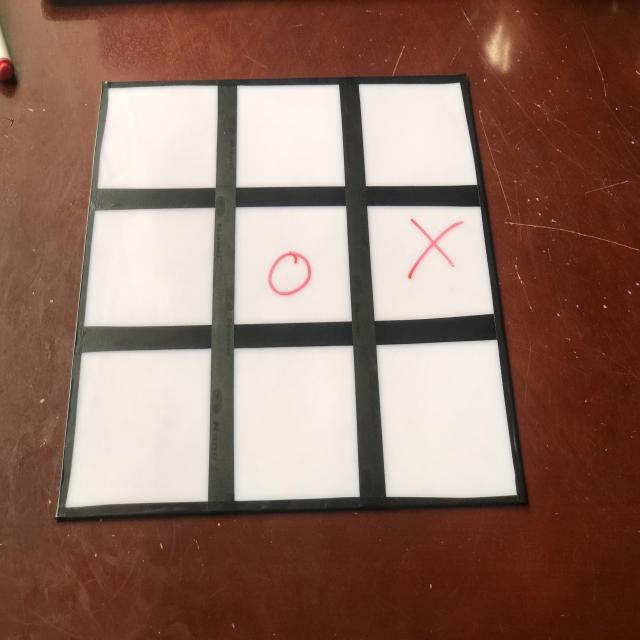null: (65, 347, 210, 509), (377, 338, 518, 497), (229, 342, 360, 500), (82, 205, 215, 329), (97, 83, 219, 191), (359, 82, 477, 188), (234, 82, 347, 189)
o: (266, 247, 309, 302)
table: (44, 69, 528, 516)
x: (407, 219, 465, 283)
